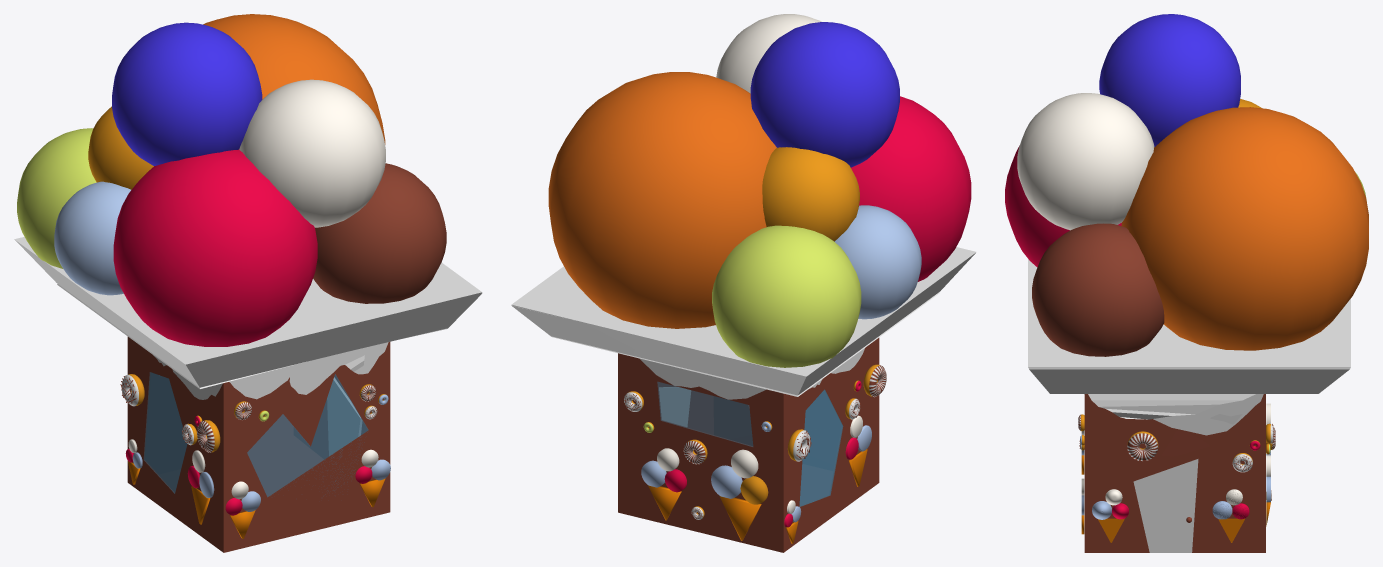
Rendered from IceCreamHouse.fbx.
3 views of the same model, side by side, from view 1: azimuth 30°, elevation 25°; view 2: azimuth 150°, elevation 25°; view 3: azimuth 270°, elevation 25° (orthographic). The views are drawn at different scales.
Parts seen in each view (by area): view 1: House, IceCreamBall_Pink, IceCreamBall_Blue, IceCreamBall_White, IceCreamBall_Brown, IceCreamBall_Orange, IceCreamBall_Green, IceCreamBall_BrightBlue, Window_Left, WIndow_Back, IceCreamBall_Yellow, Door (+5 smaller); view 2: IceCreamBall_Orange, House, IceCreamBall_Green, IceCreamBall_Blue, IceCreamBall_Pink, IceCreamBall_Yellow, IceCreamBall_BrightBlue, WIndow_Right, WIndow_Back, IceCreamBall_White, IceCreamBalls_Left_Big, IceCreamBalls_Left_Small (+6 smaller); view 3: IceCreamBall_Orange, House, IceCreamBall_White, IceCreamBall_Brown, IceCreamBall_Blue, Door, IceCreamBall_Pink, IceCreamBalls_Front_Right, IceCreamBalls_Front_Left, FrontDonut.
Boxes of the visible parts, <box> form: House: <box>14,237,482,552</box>; IceCreamBall_Pink: <box>113,149,317,346</box>; IceCreamBall_Blue: <box>112,22,262,165</box>; IceCreamBall_White: <box>239,79,385,227</box>; IceCreamBall_Brown: <box>313,163,446,303</box>; IceCreamBall_Orange: <box>203,14,385,144</box>; IceCreamBall_Green: <box>17,128,96,268</box>; IceCreamBall_BrightBlue: <box>54,181,130,295</box>; Window_Left: <box>247,374,368,496</box>; WIndow_Back: <box>143,372,187,493</box>; IceCreamBall_Yellow: <box>88,106,153,189</box>; Door: <box>327,377,362,455</box>; IceCreamBall_Orange: <box>548,72,776,328</box>; House: <box>511,247,976,552</box>; IceCreamBall_Green: <box>712,225,861,367</box>; IceCreamBall_Blue: <box>750,22,899,167</box>; IceCreamBall_Pink: <box>851,96,971,281</box>; IceCreamBall_Yellow: <box>762,147,859,241</box>; IceCreamBall_BrightBlue: <box>834,205,921,319</box>; WIndow_Right: <box>657,382,753,446</box>; WIndow_Back: <box>799,389,843,506</box>; IceCreamBall_White: <box>716,14,821,93</box>; IceCreamBalls_Left_Big: <box>711,449,768,504</box>; IceCreamBalls_Left_Small: <box>641,448,686,492</box>; IceCreamBall_Orange: <box>1121,107,1368,350</box>; House: <box>1028,259,1350,552</box>; IceCreamBall_White: <box>1017,93,1154,230</box>; IceCreamBall_Brown: <box>1032,223,1164,356</box>; IceCreamBall_Blue: <box>1099,14,1240,146</box>; Door: <box>1133,459,1198,552</box>; IceCreamBall_Pink: <box>1005,145,1121,267</box>; IceCreamBalls_Front_Right: <box>1092,489,1128,519</box>; IceCreamBalls_Front_Left: <box>1212,489,1249,519</box>; FrontDonut: <box>1127,431,1158,461</box>.
Size of the model in its own units: 3997 by 5681 by 4076.
